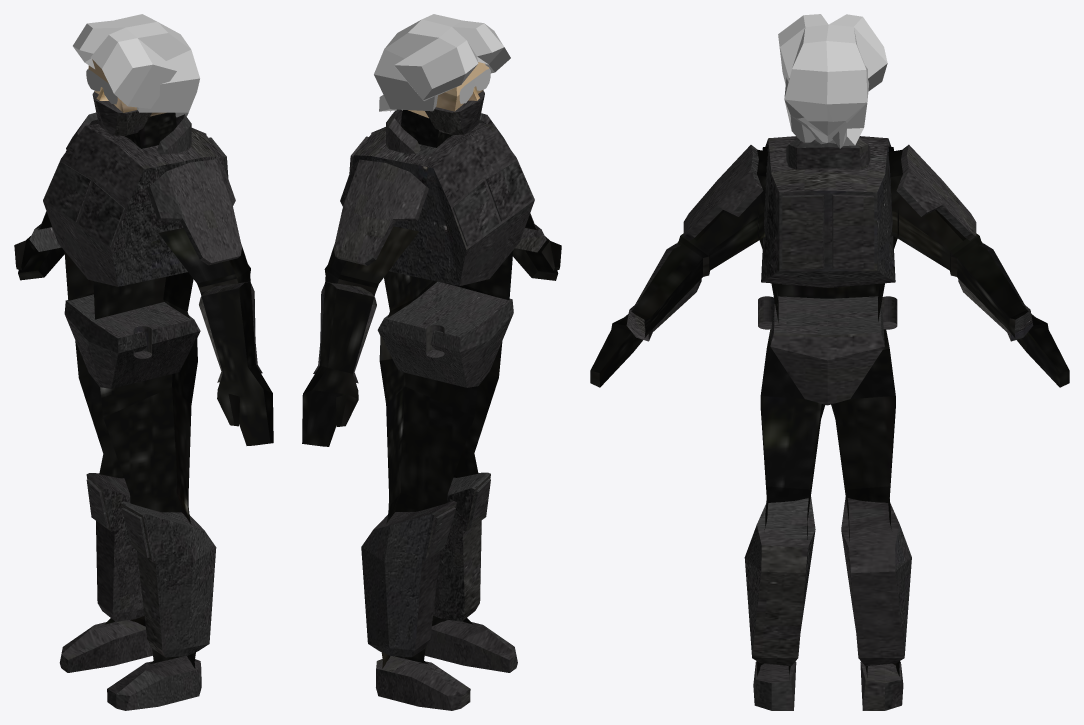
Rendered from Melee_Enemy_V2.fbx.
The picture shows the model from 3 angles, left to right: view 1: azimuth 30°, elevation 25°; view 2: azimuth 150°, elevation 25°; view 3: azimuth 270°, elevation 25°; orthographic projection.
Visible parts, largest first — view 1: Armor, Human Base, Hair, Glasses; view 2: Armor, Human Base, Hair, Glasses; view 3: Armor, Human Base, Hair.
Boxes of the visible parts, bbox=[...] form: Armor: bbox=[29, 91, 262, 710]; Human Base: bbox=[14, 59, 273, 668]; Hair: bbox=[73, 14, 199, 117]; Glasses: bbox=[86, 69, 117, 104]; Armor: bbox=[313, 91, 546, 710]; Human Base: bbox=[302, 62, 561, 668]; Hair: bbox=[374, 14, 510, 111]; Glasses: bbox=[459, 68, 490, 103]; Armor: bbox=[626, 136, 1033, 710]; Human Base: bbox=[590, 146, 1069, 679]; Hair: bbox=[778, 14, 887, 148].
Size of the model in its own units: 133 by 630 by 412.
